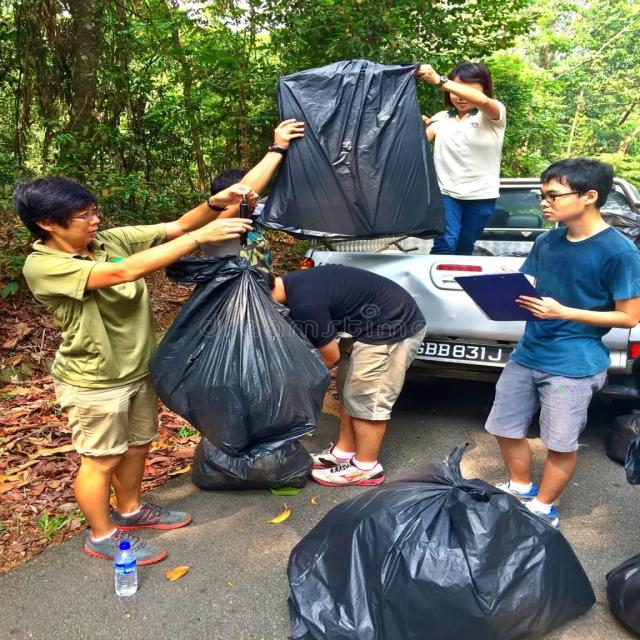normal_waste: (292, 489, 584, 634), (164, 254, 308, 446), (286, 64, 430, 242), (202, 429, 314, 486)
vehicle: (306, 178, 544, 380), (601, 328, 639, 403), (605, 179, 639, 230)
